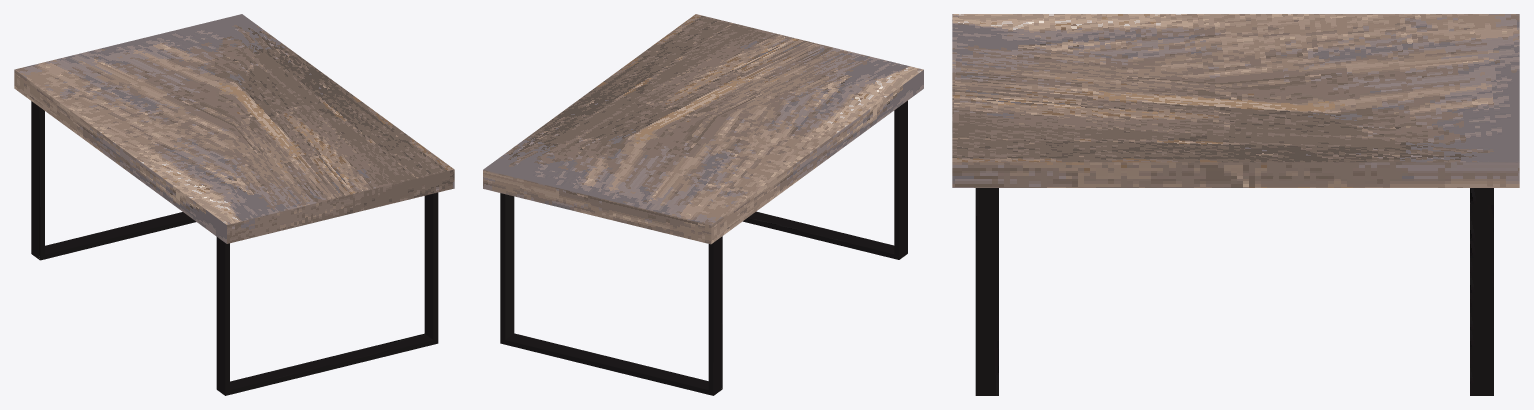
Rendered from table.glb.
The picture shows the model from 3 angles, left to right: view 1: azimuth 30°, elevation 25°; view 2: azimuth 150°, elevation 25°; view 3: azimuth 270°, elevation 25°; orthographic projection. The views are drawn at different scales.
Parts seen in each view (by area): view 1: Cube; view 2: Cube; view 3: Cube.
Part boxes in pixels (box(x1,y1,x2,y2)): Cube: box(14, 14, 454, 395); Cube: box(483, 14, 923, 395); Cube: box(952, 14, 1519, 395).
Size of the model in its own units: 2.47 by 1.86 by 3.99.
Materials: 1 (1 with a texture image).
